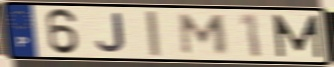1: (238, 12, 263, 59)
6: (44, 7, 80, 56)
I: (143, 9, 163, 58)
J: (94, 12, 128, 55)
M: (270, 13, 324, 60), (179, 12, 230, 56)
